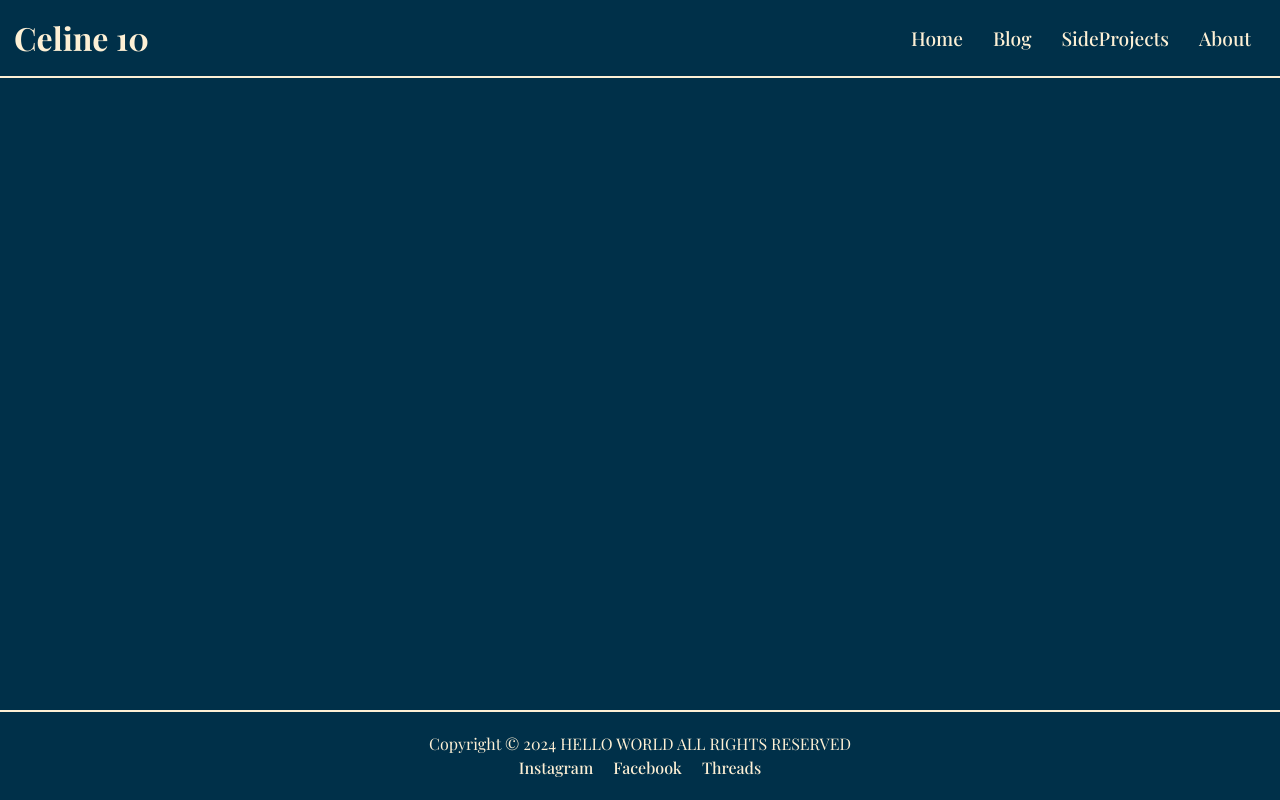
Test case: layout page › clicks and change to sideProjects page
The image size is (1280, 800).
Step 1. Click the link "SideProjects" → (1115, 38), box x1=1061 y1=25 x2=1169 y2=51
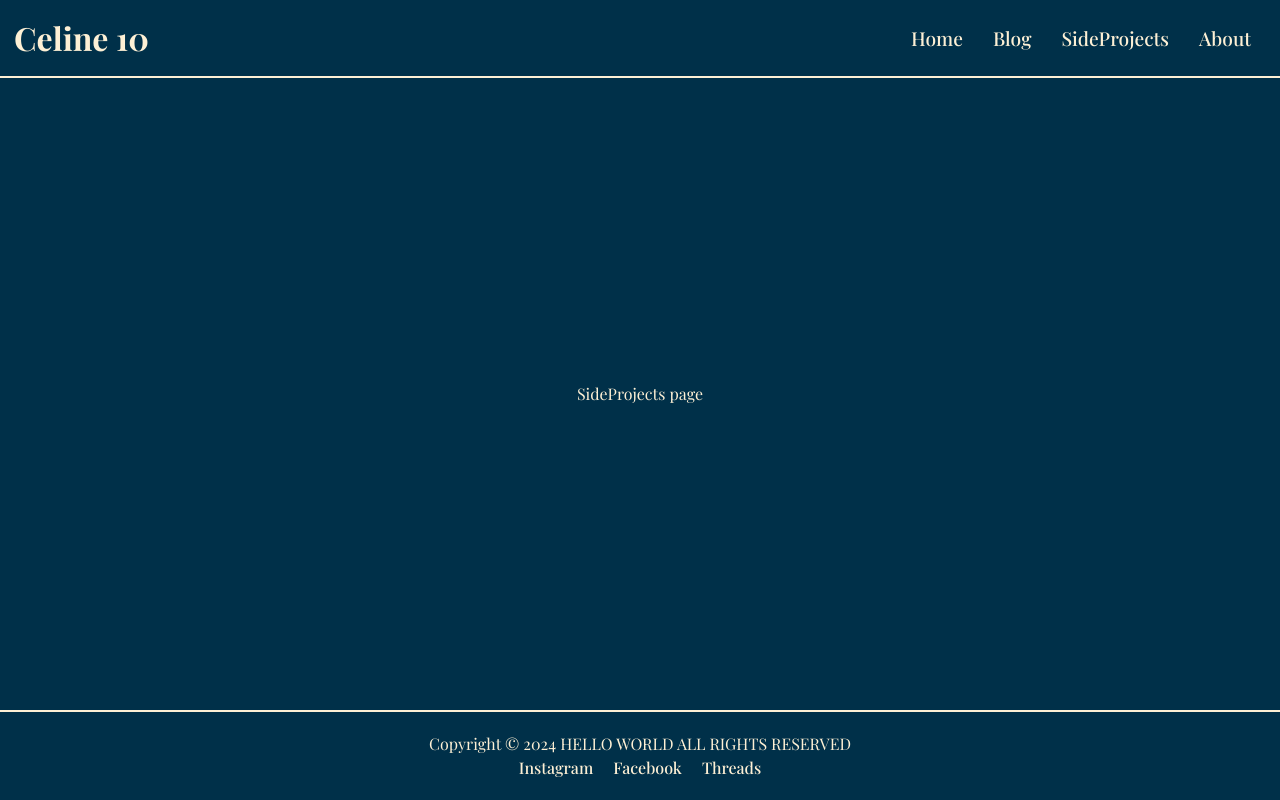
Expected: the text "SideProjects page" is shown, x1=577 y1=383 x2=703 y2=404
